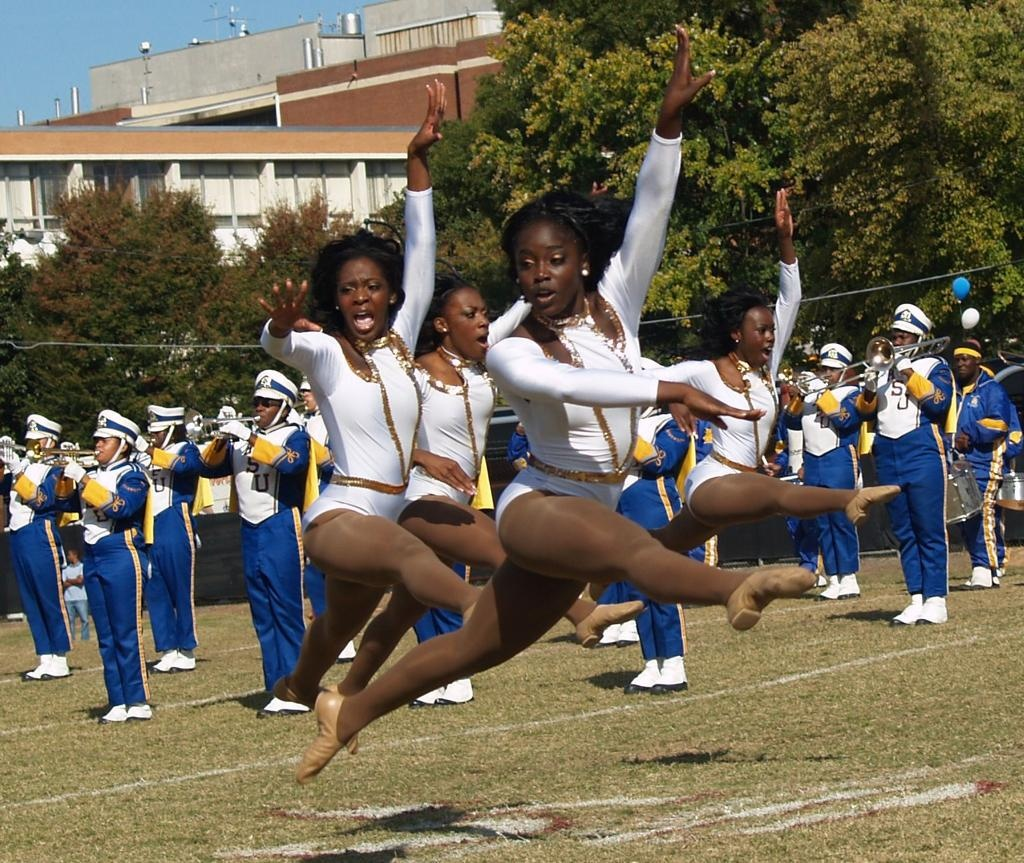human_face: (512, 227, 580, 316), (334, 262, 388, 340), (447, 288, 489, 360), (742, 306, 774, 366), (252, 394, 276, 428), (892, 328, 916, 362), (92, 436, 118, 464), (952, 352, 974, 378), (300, 385, 318, 413), (26, 437, 44, 457), (822, 364, 838, 386), (150, 430, 168, 448)
